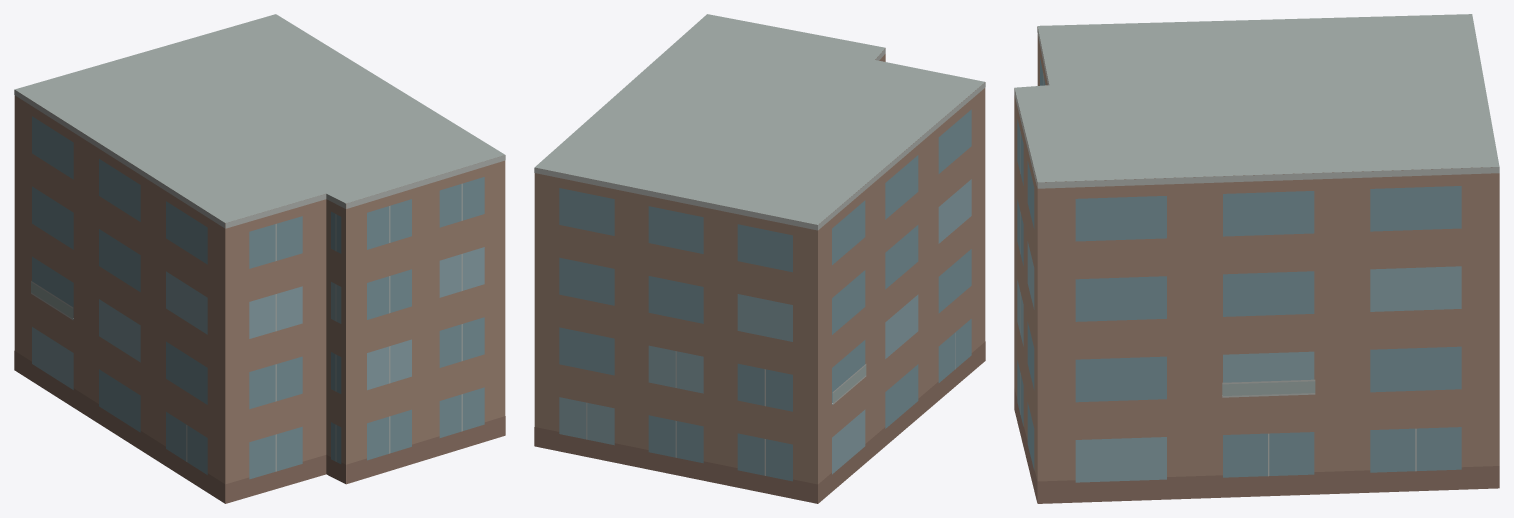
Rendered from survey-upis-32949876.glb.
3 views of the same model, side by side, from view 1: azimuth 30°, elevation 25°; view 2: azimuth 150°, elevation 25°; view 3: azimuth 270°, elevation 25° (orthographic). The views are drawn at different scales.
Visible parts, largest first — view 1: survey-upis-32949876.tmp; view 2: survey-upis-32949876.tmp; view 3: survey-upis-32949876.tmp.
Boxes of the visible parts, box(x1,y1,x2,y2) form: survey-upis-32949876.tmp: box(14, 14, 505, 503); survey-upis-32949876.tmp: box(534, 14, 985, 503); survey-upis-32949876.tmp: box(1014, 14, 1499, 503).
Bounding box in the file's own units: 13.81 × 12.29 × 16.82.
